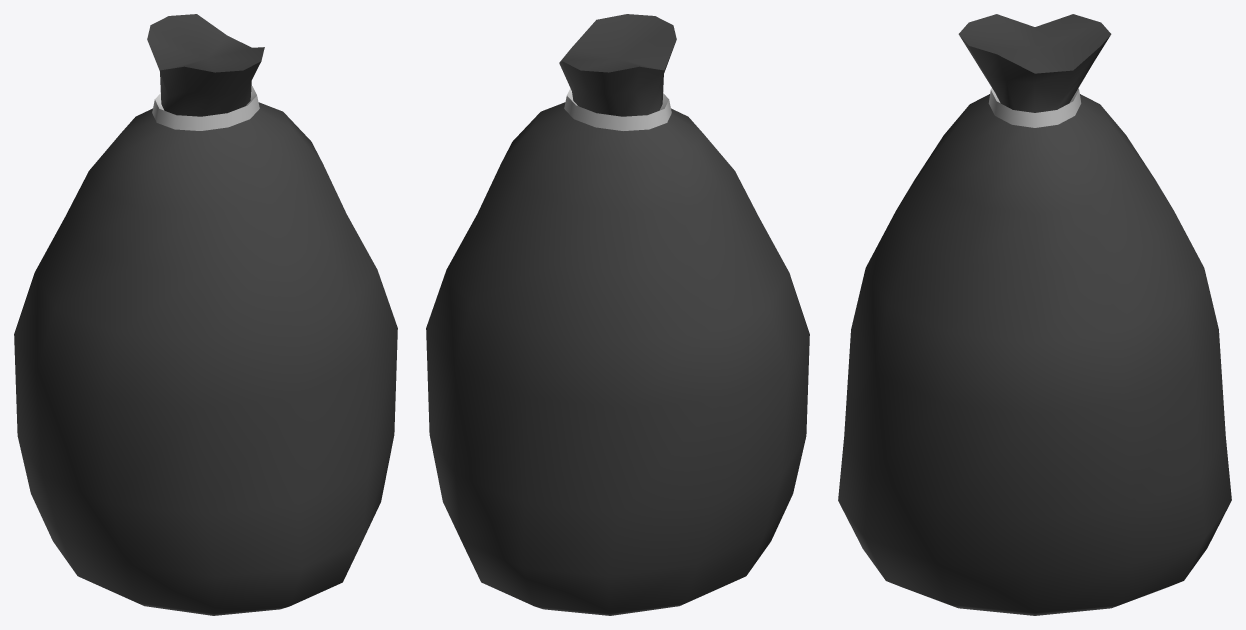
The model's file is SM_Garbagebag_Large.fbx.
3 views of the same model, side by side, from view 1: azimuth 30°, elevation 25°; view 2: azimuth 150°, elevation 25°; view 3: azimuth 270°, elevation 25° (orthographic). The views are drawn at different scales.
Parts seen in each view (by area): view 1: GarbageBag_Large; view 2: GarbageBag_Large; view 3: GarbageBag_Large.
Part boxes in pixels (bbox=[...]): GarbageBag_Large: bbox=[14, 14, 397, 615]; GarbageBag_Large: bbox=[426, 14, 809, 615]; GarbageBag_Large: bbox=[838, 14, 1231, 615].
Bounding box in the file's own units: 19.27 × 28.18 × 18.87.
